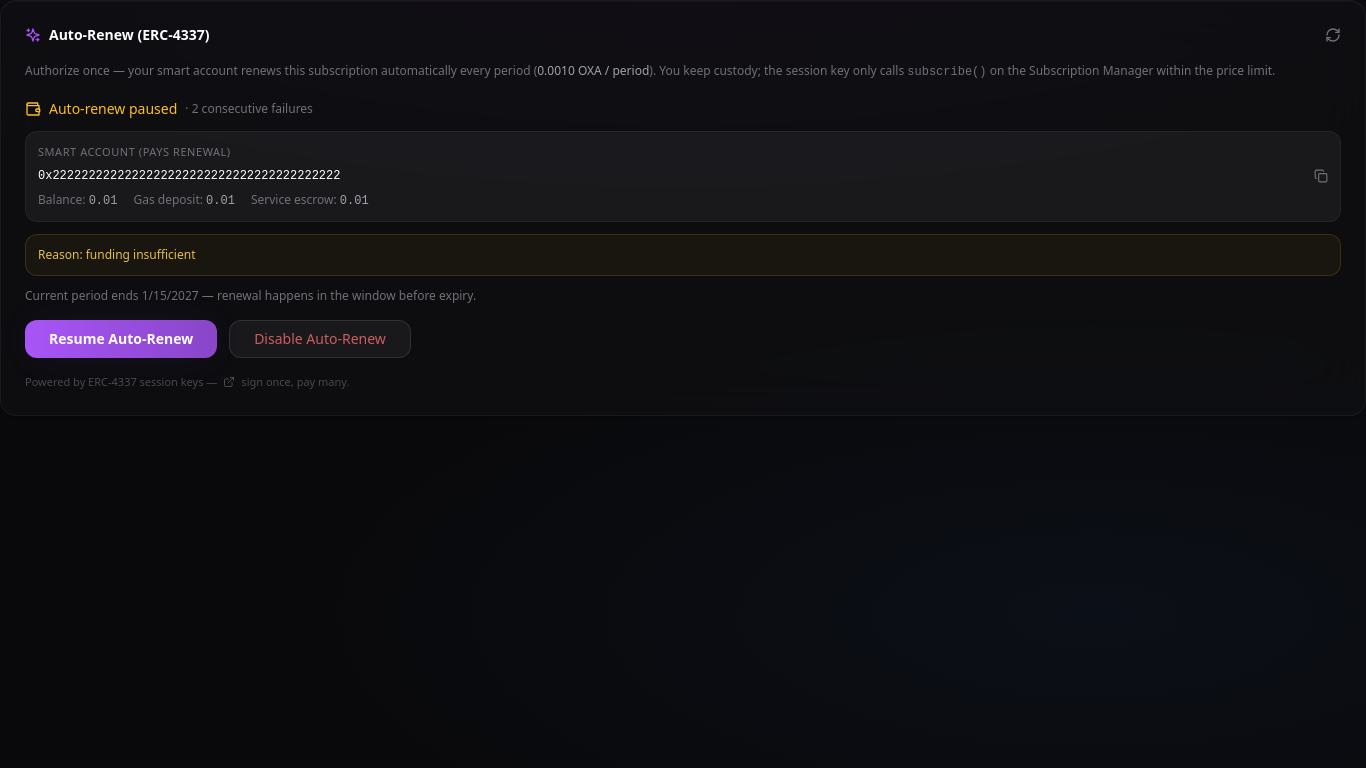
resume — 暂停恢复 › paused + 点 Resume → resumeAutoRenew 被调 → enabled + paused_reason 清除
Expected: the text "Auto-renew paused · 2 consecutive failures" is shown, [25,98,313,118]
Expected: the text "· 2 consecutive failures" is shown, [185,100,313,116]
Click the button "Resume Auto-Renew". click: (121, 339)
box: [25,320,217,358]
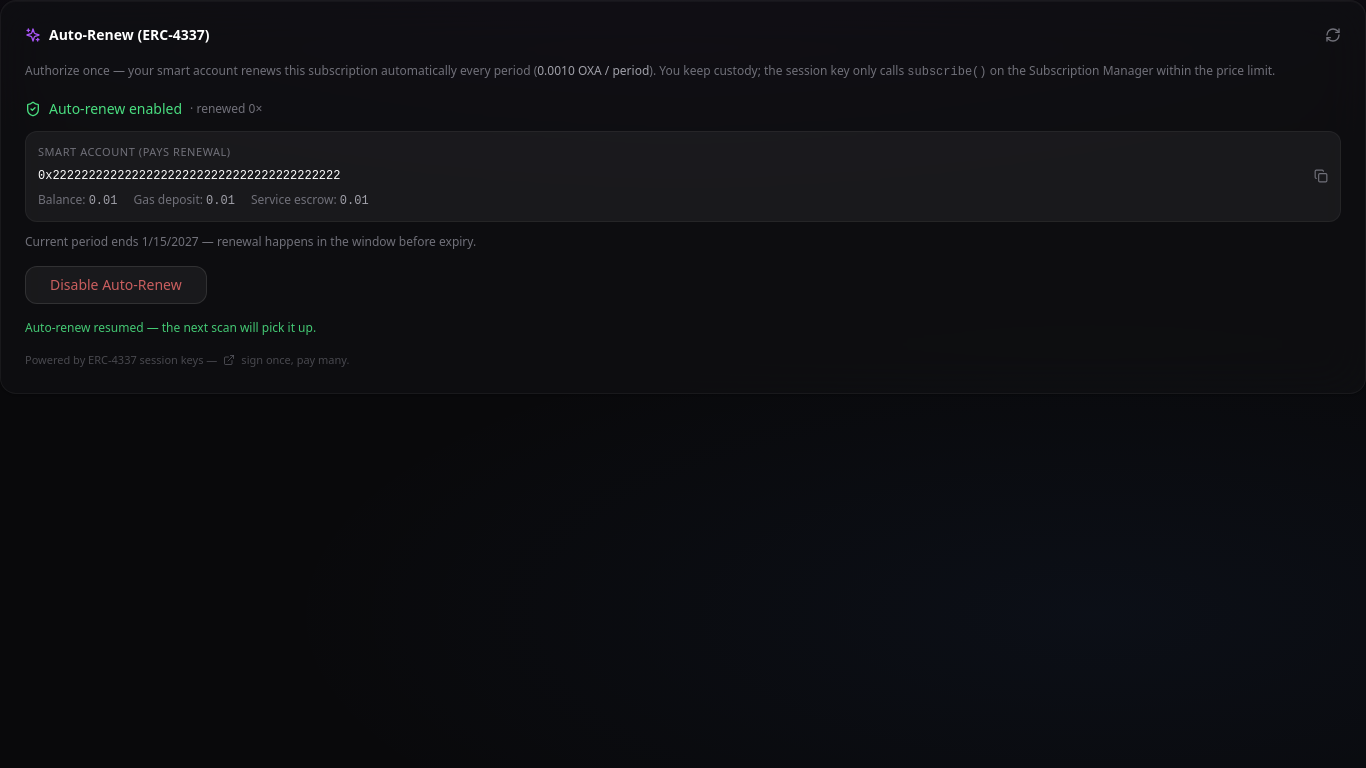
Result: the text "Auto-renew resumed — the next scan will pick it up." is shown at [25,319,316,336]
